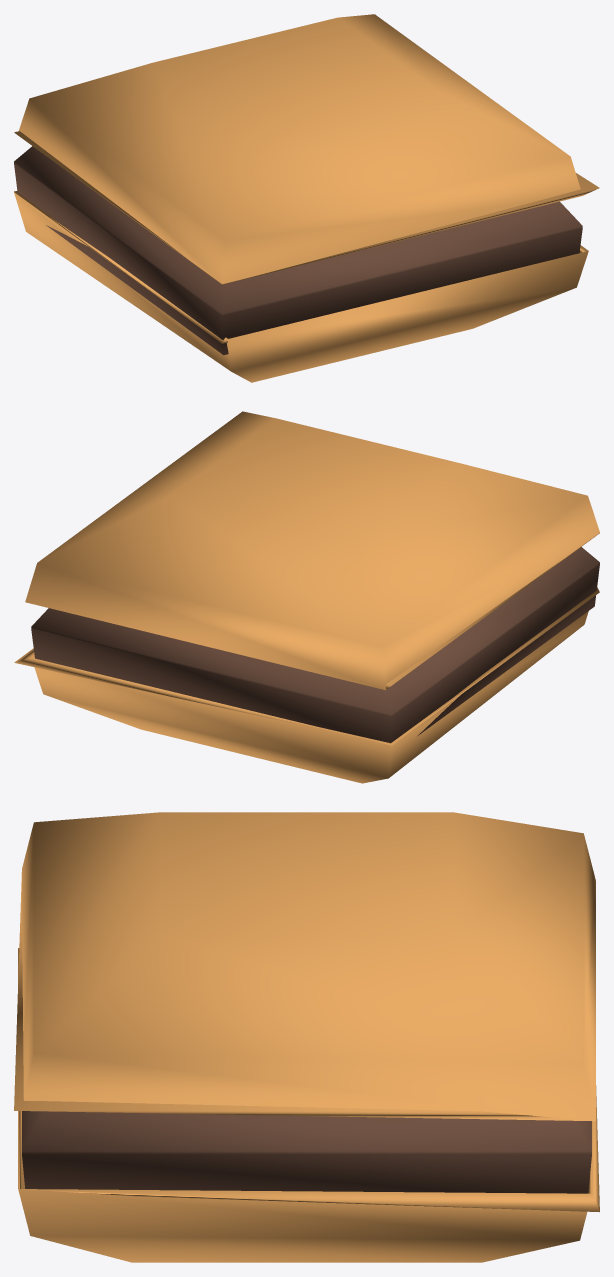
File: hamburger.glb
3 renders of one model, top to bottom at view 1: azimuth 30°, elevation 25°; view 2: azimuth 150°, elevation 25°; view 3: azimuth 270°, elevation 25°, orthographic. The views are drawn at different scales.
Parts seen in each view (by area): view 1: Cube.001, Cube.002, Cube; view 2: Cube.001, Cube.002, Cube; view 3: Cube.001, Cube.002, Cube.
Boxes of the visible parts, x1,y1,x2,y2 form: Cube.001: [14, 14, 599, 284]; Cube.002: [14, 146, 582, 355]; Cube: [14, 191, 588, 382]; Cube.001: [25, 411, 599, 690]; Cube.002: [31, 547, 599, 743]; Cube: [14, 587, 599, 783]; Cube.001: [14, 812, 595, 1121]; Cube.002: [22, 1111, 591, 1193]; Cube: [18, 948, 599, 1262].
Size of the model in its own units: 10.4 by 6.09 by 10.28.
